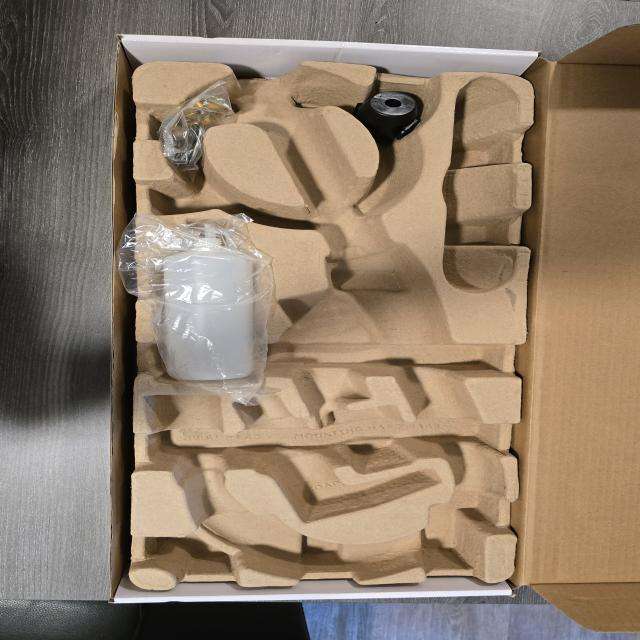1m: (148, 61, 503, 580)
2m: (234, 394, 439, 521)
3: (162, 219, 259, 380)
4m: (437, 77, 519, 293)
5: (355, 92, 423, 139)
6: (159, 81, 238, 180)
7m: (150, 173, 269, 225)
